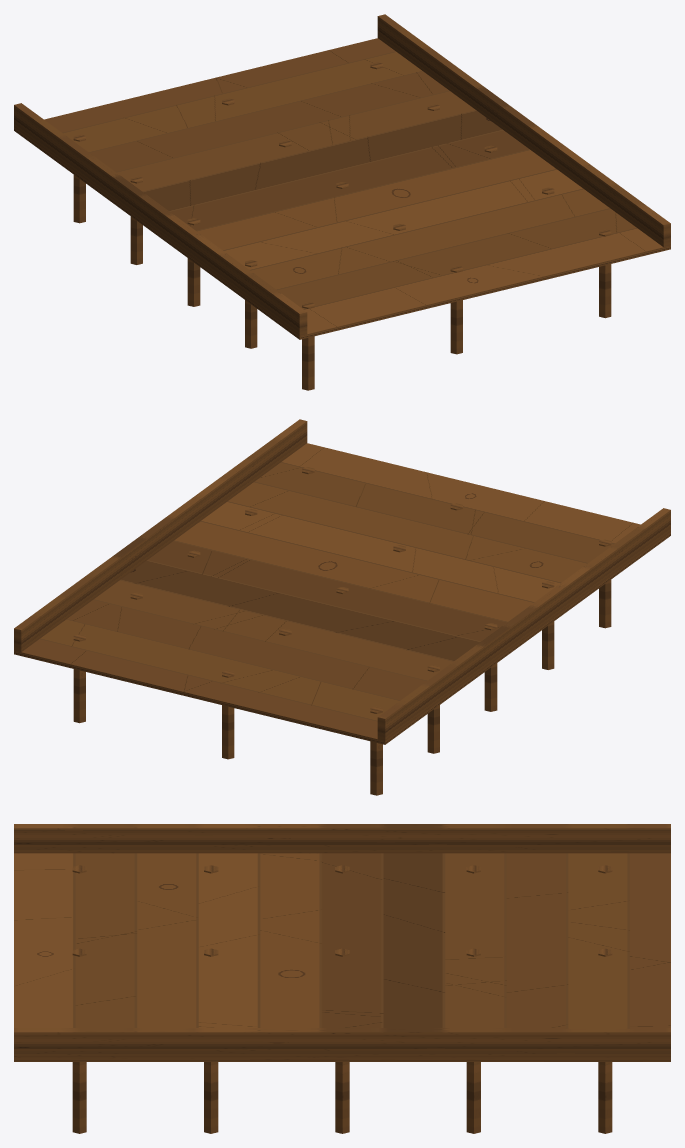
File: dock.obj
3 views of the same model, one above another, from view 1: azimuth 30°, elevation 25°; view 2: azimuth 150°, elevation 25°; view 3: azimuth 270°, elevation 25° (orthographic). The views are drawn at different scales.
Size of the model in its own units: 15 by 4 by 20.
Materials: 1 (1 with a texture image).
